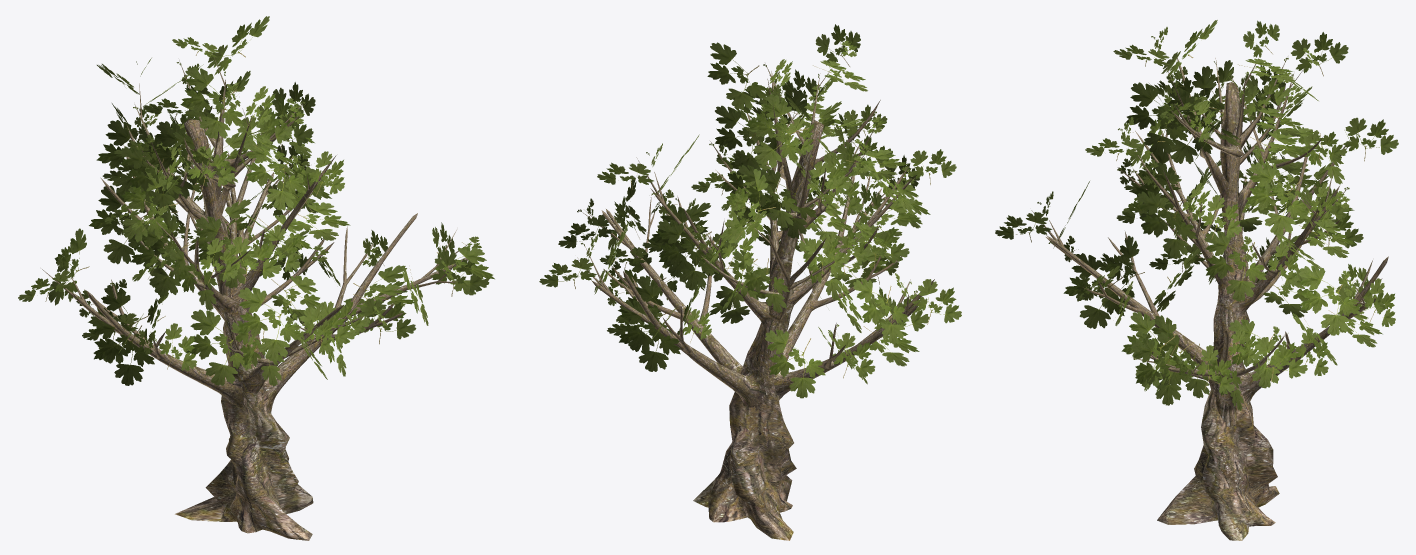
The model's file is Tree_1.fbx.
The picture shows the model from 3 angles, left to right: view 1: azimuth 30°, elevation 25°; view 2: azimuth 150°, elevation 25°; view 3: azimuth 270°, elevation 25°; orthographic projection. The views are drawn at different scales.
Visible parts, largest first — view 1: branch05_1, mossybark02_0; view 2: branch05_1, mossybark02_0; view 3: branch05_1, mossybark02_0.
Boxes of the visible parts, x1=… form: branch05_1: x1=18, y1=16, x2=494, y2=385; mossybark02_0: x1=42, y1=57, x2=471, y2=540; branch05_1: x1=539, y1=24, x2=961, y2=398; mossybark02_0: x1=577, y1=61, x2=934, y2=540; branch05_1: x1=995, y1=20, x2=1398, y2=410; mossybark02_0: x1=1031, y1=54, x2=1388, y2=540.
Bounding box in the file's own units: 389 × 422 × 330.
2 materials, 2 textured.
